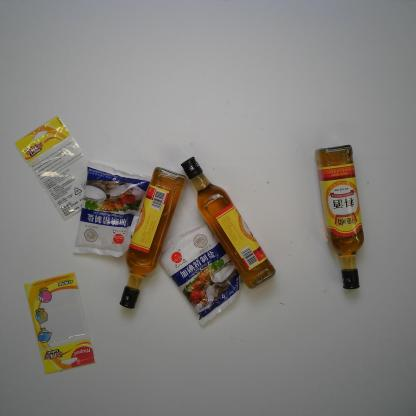Seasoner: (177, 154, 278, 289), (118, 164, 188, 312), (158, 218, 246, 327), (312, 143, 366, 292), (72, 160, 152, 260)
Stationery: (12, 113, 90, 222), (21, 271, 96, 376)
